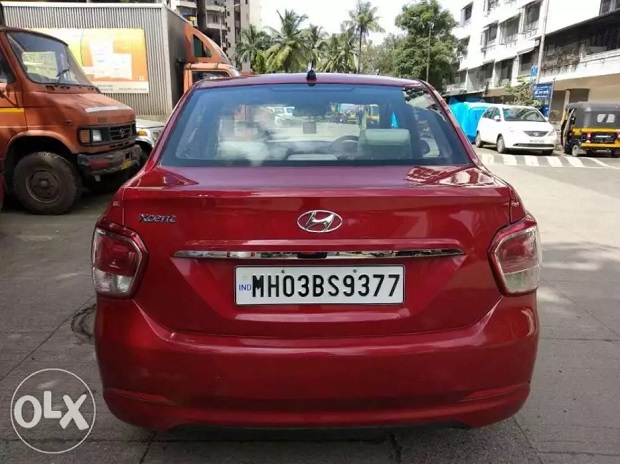licenseplate: (231, 263, 407, 305)
